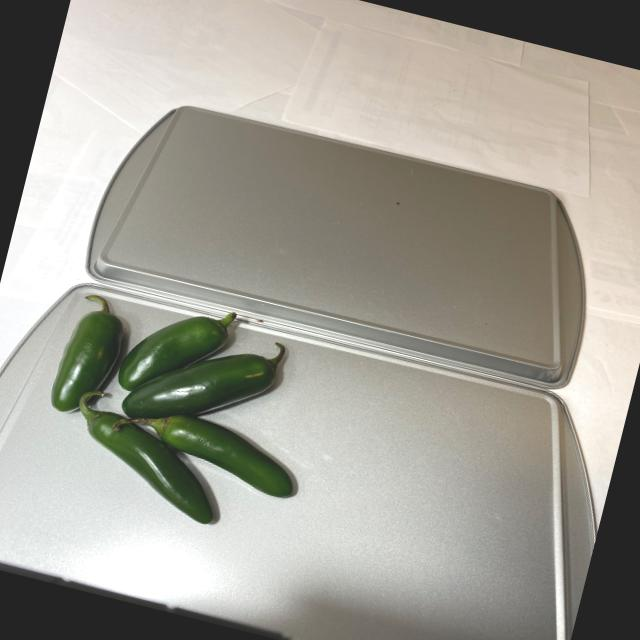chilli: (25, 273, 342, 556)
